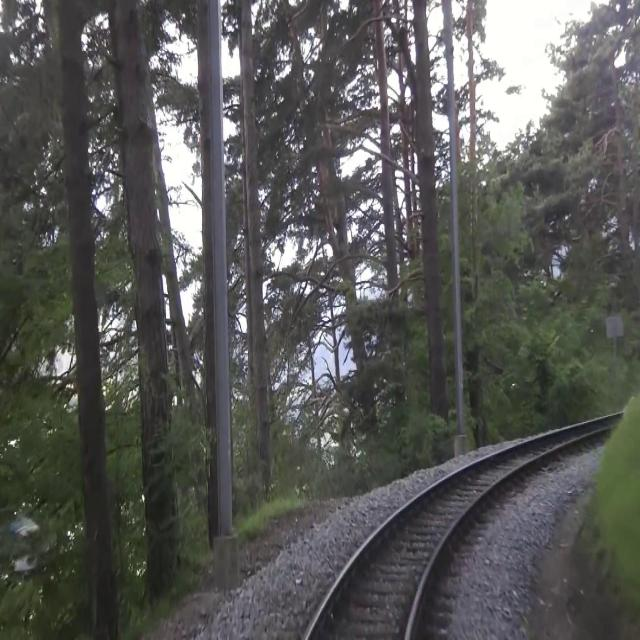rail-track: (309, 417, 618, 639)
